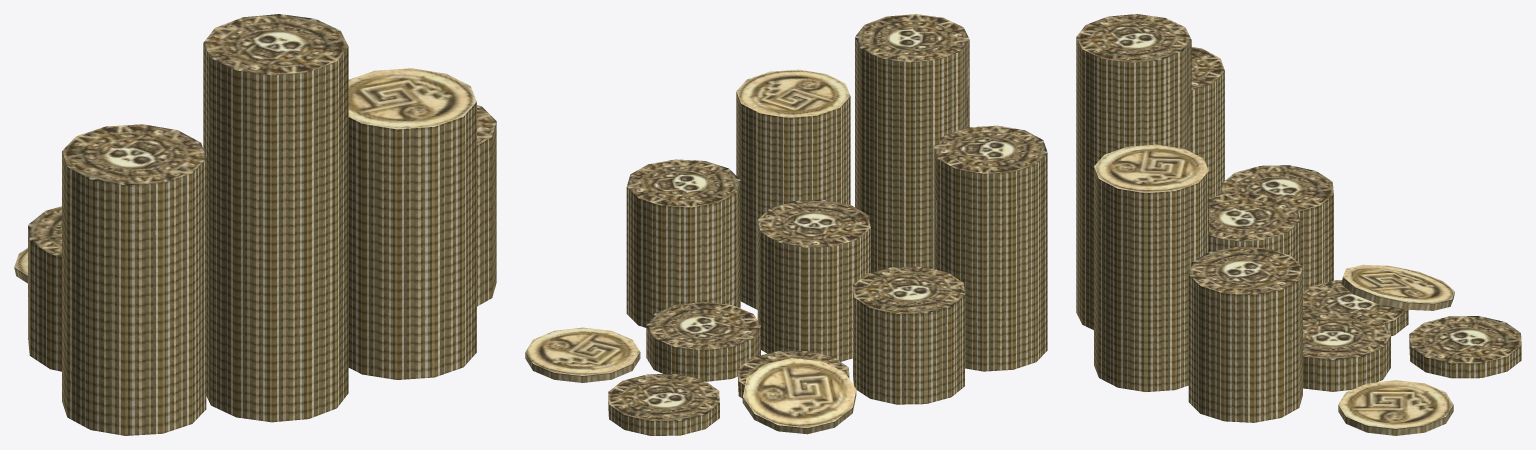
The model's file is coinstacks.fbx.
3 renders of one model, left to right at view 1: azimuth 30°, elevation 25°; view 2: azimuth 150°, elevation 25°; view 3: azimuth 270°, elevation 25°, orthographic. The views are drawn at different scales.
Visible parts, largest first — view 1: coin_mesh9, coin_mesh8, coin_mesh5, coin_mesh1.001, coin_mesh6; view 2: coin_mesh8, coin_mesh9, coin_mesh6, coin_mesh5, coin_mesh7, coin_mesh1.001, stack_2, coin_mesh4, coin_mesh10, coin_mesh3, coin_mesh1; view 3: coin_mesh5, coin_mesh6, coin_mesh9, stack_2, coin_mesh1.001, coin_mesh10, coin_mesh3, coin_mesh7, coin_mesh8, coin_mesh4, coin_mesh1.
Boxes of the visible parts, box(x1,y1,x2,y2) form: coin_mesh9: box(203, 14, 348, 422); coin_mesh8: box(62, 124, 206, 435); coin_mesh5: box(348, 68, 476, 379); coin_mesh1.001: box(28, 206, 61, 371); coin_mesh6: box(477, 105, 496, 306); coin_mesh8: box(933, 125, 1047, 371); coin_mesh9: box(855, 14, 969, 272); coin_mesh6: box(626, 159, 740, 327); coin_mesh5: box(736, 69, 850, 309); coin_mesh7: box(757, 200, 870, 361); coin_mesh1.001: box(853, 266, 964, 404); stack_2: box(646, 302, 760, 381); coin_mesh4: box(742, 358, 856, 434); coin_mesh10: box(608, 374, 719, 435); coin_mesh3: box(525, 327, 640, 382); coin_mesh1: box(738, 350, 849, 398); coin_mesh5: box(1094, 144, 1208, 391); coin_mesh6: box(1188, 246, 1302, 422); coin_mesh9: box(1076, 14, 1191, 329); stack_2: box(1303, 311, 1390, 391); coin_mesh1.001: box(1221, 165, 1333, 292); coin_mesh10: box(1409, 316, 1521, 378); coin_mesh3: box(1338, 380, 1453, 435); coin_mesh7: box(1209, 193, 1299, 263); coin_mesh8: box(1191, 47, 1224, 198); coin_mesh4: box(1341, 264, 1454, 310); coin_mesh1: box(1303, 280, 1408, 336).
Bounding box in the file's own units: 49.59 × 32.98 × 48.35.
2 materials, 2 textured.
